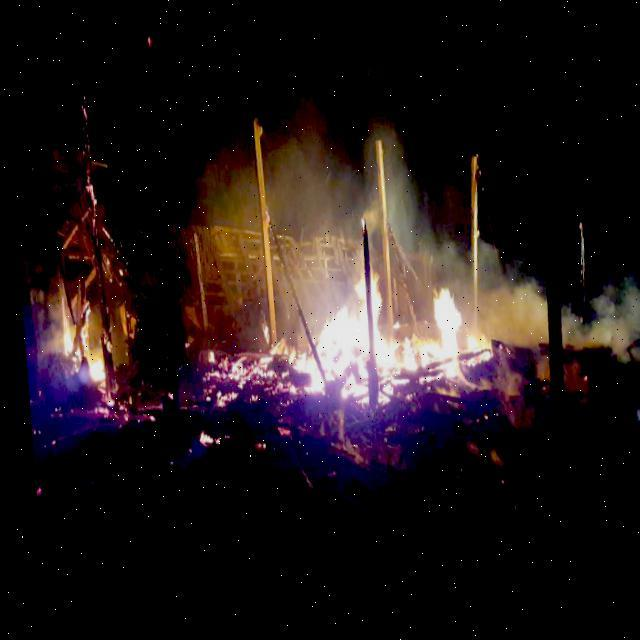Fire: (286, 260, 494, 408), (198, 346, 294, 412), (55, 294, 101, 388), (191, 428, 211, 447)
